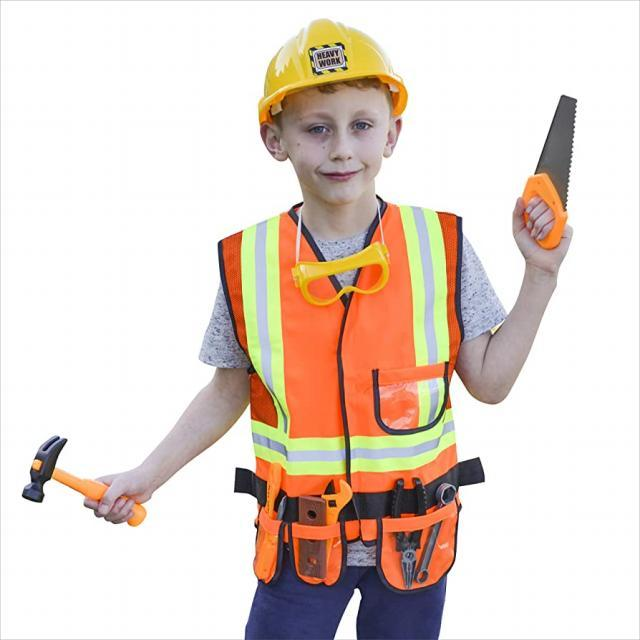hammer: (7, 424, 163, 541)
